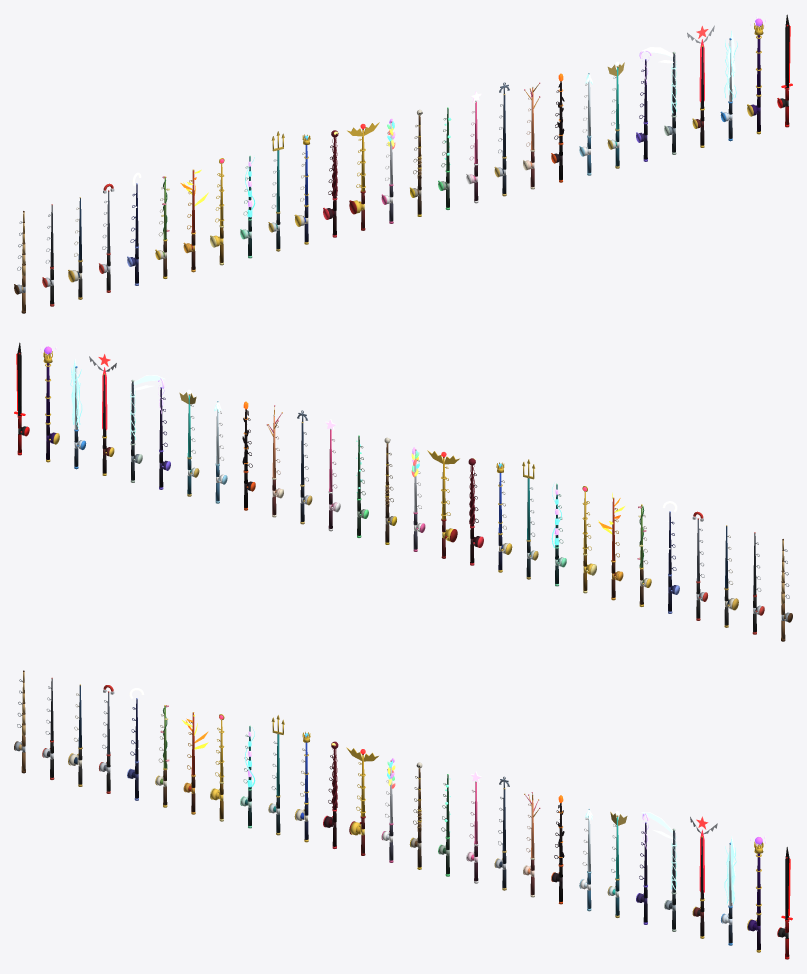
The model's file is rods.glb.
3 renders of one model, top to bottom at view 1: azimuth 30°, elevation 25°; view 2: azimuth 150°, elevation 25°; view 3: azimuth 330°, elevation 25°, orthographic.
Parts seen in each view (by area): view 1: rod_frost, rod_oscar, rod_klippe, rod_nebel, rod_krone, rod_depths, rod_phoenix.001, rod_atlantean, rod_tryhard, rod_trident, rod_kings, rod_rainbow (+13 smaller); view 2: rod_oscar, rod_frost, rod_nebel, rod_klippe, rod_krone, rod_depths, rod_phoenix.001, rod_tryhard, rod_atlantean, rod_trident, rod_kings, rod_rainbow (+12 smaller); view 3: rod_oscar, rod_frost, rod_nebel, rod_klippe, rod_krone, rod_depths, rod_phoenix.001, rod_tryhard, rod_trident, rod_atlantean, rod_kings, rod_rainbow (+13 smaller).
Boxes of the visible parts, <box> form: rod_frost: <box>720,31,737,141</box>; rod_oscar: <box>347,122,379,230</box>; rod_klippe: <box>687,25,714,147</box>; rod_nebel: <box>641,47,676,154</box>; rod_krone: <box>747,16,766,134</box>; rod_depths: <box>323,130,338,237</box>; rod_phoenix.001: <box>180,169,208,272</box>; rod_atlantean: <box>607,61,624,168</box>; rod_tryhard: <box>777,14,792,127</box>; rod_trident: <box>268,131,284,251</box>; rod_kings: <box>294,134,310,244</box>; rod_rainbow: <box>381,118,395,223</box>; rod_oscar: <box>427,450,459,558</box>; rod_frost: <box>70,359,86,469</box>; rod_nebel: <box>130,375,165,482</box>; rod_klippe: <box>89,354,116,475</box>; rod_krone: <box>40,346,59,462</box>; rod_depths: <box>468,458,483,565</box>; rod_phoenix.001: <box>598,492,624,600</box>; rod_tryhard: <box>14,342,29,455</box>; rod_atlantean: <box>179,389,199,496</box>; rod_trident: <box>522,459,538,579</box>; rod_kings: <box>496,462,512,572</box>; rod_rainbow: <box>411,447,425,551</box>; rod_oscar: <box>346,747,378,855</box>; rod_frost: <box>721,836,736,945</box>; rod_nebel: <box>641,812,676,931</box>; rod_klippe: <box>690,816,717,938</box>; rod_krone: <box>747,836,766,952</box>; rod_depths: <box>323,741,338,848</box>; rod_phoenix.001: <box>182,712,208,814</box>; rod_tryhard: <box>777,847,792,959</box>; rod_trident: <box>268,715,284,835</box>; rod_atlantean: <box>607,811,627,917</box>; rod_kings: <box>294,732,310,842</box>; rod_rainbow: <box>381,758,395,862</box>.
Bounding box in the file's own units: 65.88 × 9.85 × 1.83.
